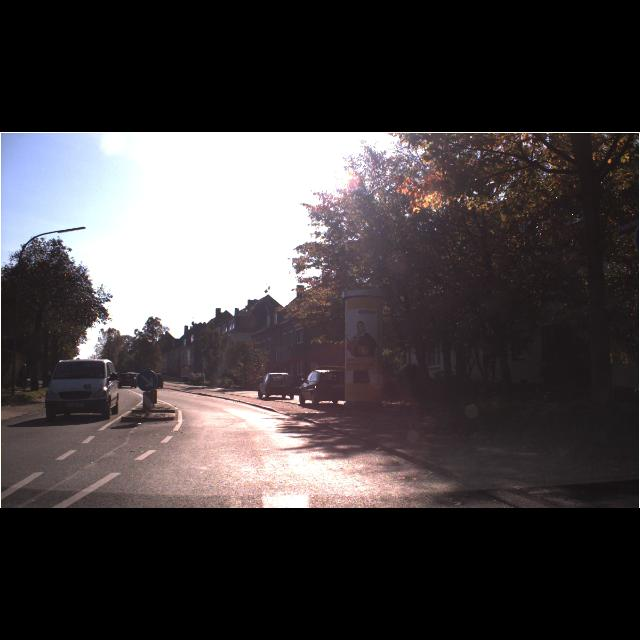mandatory: (136, 370, 158, 392)
